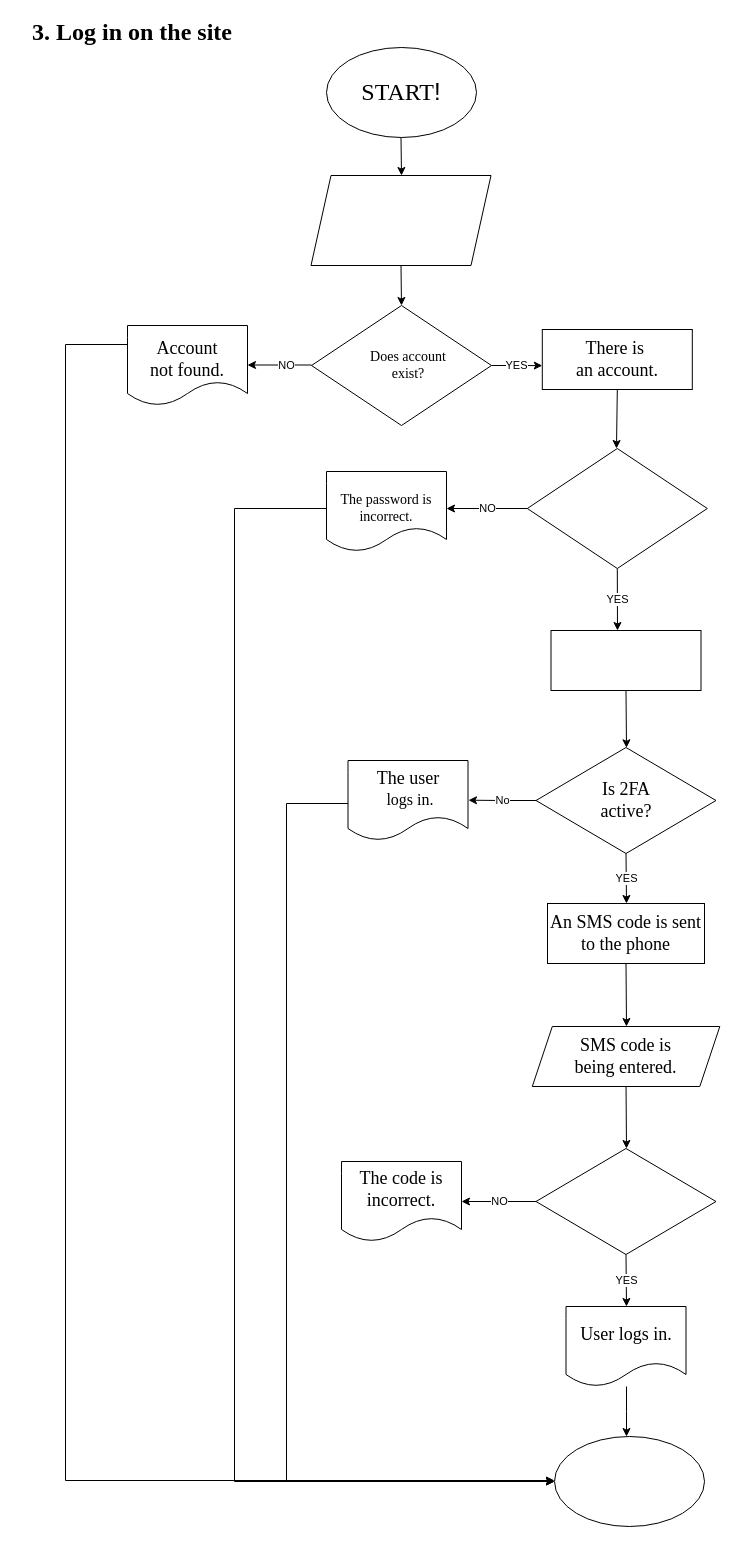
The diagram is 737 pixels wide and 1544 high, and some of its shapes have lost their labels. The shapes that lost their labels are listed below. From the top down, each one's centre as x and y in pixels, then its label:
At [400,220]: "Enter e-mail / password".
At [616,508]: "Is it password correct?".
At [625,660]: "The password is correct.".
At [625,1201]: "İs the code correct?".
At [629,1481]: "END!".
